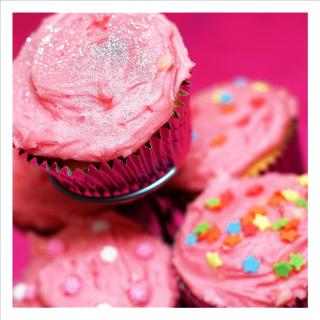Muffin: (10, 12, 308, 308)
